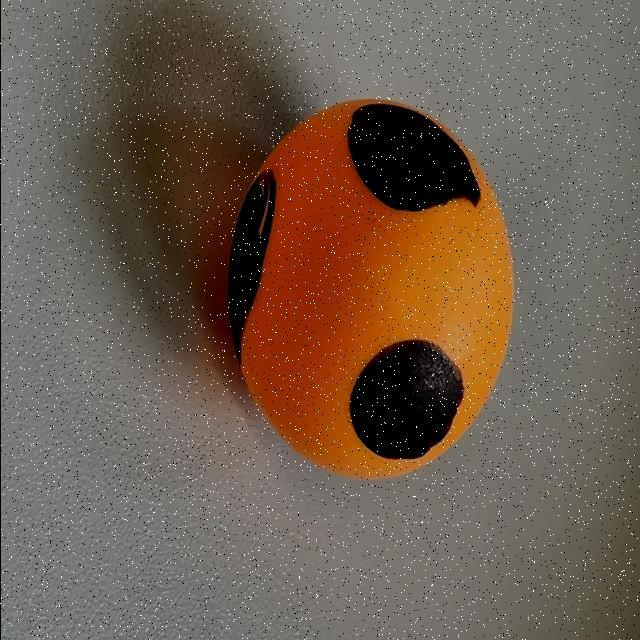ping-pong-ball: (212, 90, 518, 504)
